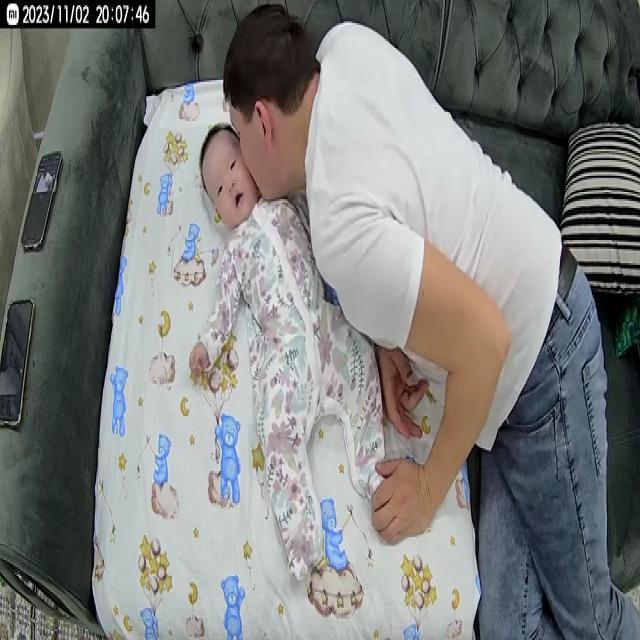baby: (185, 126, 391, 567)
